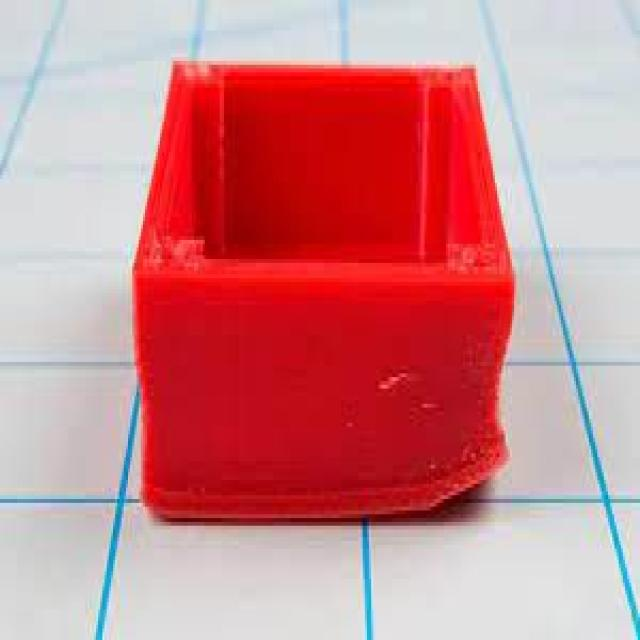Warping: (331, 454, 512, 526), (140, 481, 200, 523)
